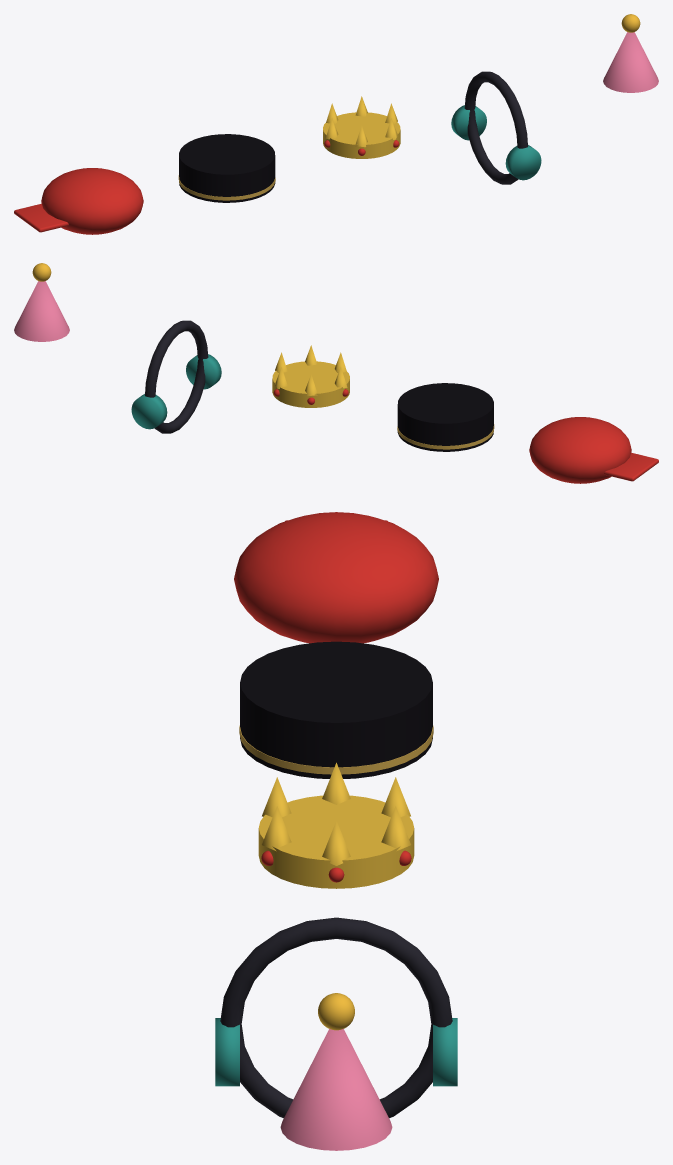
The model's file is hats.glb.
The picture shows the model from 3 angles, top to bottom: view 1: azimuth 30°, elevation 25°; view 2: azimuth 150°, elevation 25°; view 3: azimuth 270°, elevation 25°; orthographic projection. The views are drawn at different scales.
Visible parts, largest first — view 1: Songkok, CapDome, CrownBand, Headband.001, Cone, Cup-0.35, CapBrim, Cup0.35, SongkokBand; view 2: Songkok, CapDome, CrownBand, Headband.001, Cone, Cup0.35, CapBrim, Cup-0.35, SongkokBand; view 3: Songkok, CapDome, Headband.001, CrownBand, Cone, Cup0.35, Cup-0.35, SongkokBand, Pom.
Part boxes in pixels (x1,y1,x2,y2): Songkok: (179, 134, 275, 202); CapDome: (41, 168, 143, 234); CrownBand: (323, 112, 400, 158); Headband.001: (464, 71, 527, 184); Cone: (603, 32, 658, 92); Cup-0.35: (505, 145, 541, 180); CapBrim: (14, 203, 68, 232); Cup0.35: (451, 105, 486, 140); SongkokBand: (178, 175, 275, 200); Songkok: (397, 383, 493, 451); CapDome: (529, 417, 631, 483); CrownBand: (272, 361, 349, 407); Headband.001: (145, 320, 208, 433); Cone: (14, 281, 69, 341); Cup0.35: (131, 394, 167, 429); CapBrim: (604, 452, 658, 481); Cup-0.35: (186, 354, 221, 389); SongkokBand: (397, 424, 494, 449); Songkok: (240, 641, 432, 778); CapDome: (234, 512, 438, 643); Headband.001: (220, 917, 452, 1118); CrownBand: (258, 795, 414, 888); Cone: (280, 1029, 392, 1150); Cup0.35: (433, 1018, 457, 1086); Cup-0.35: (215, 1018, 239, 1086); SongkokBand: (239, 725, 433, 774); Pom: (318, 993, 354, 1030).
Bounding box in the file's own units: 4.67 × 0.945 × 0.78.
